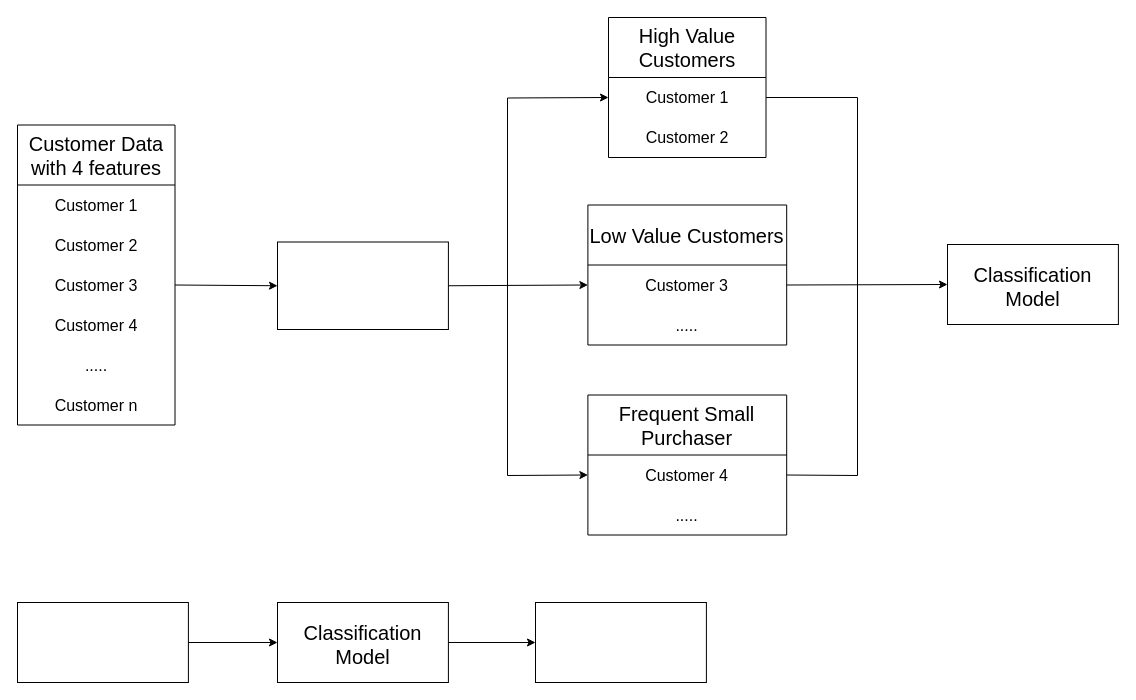
This 1136x700 diagram has some shape labels left out. The shapes that lost their labels are listed below. From the top down, each one's centre as x and y in pixels, then its label:
At pixel 362 285: "Clustering Model".
At pixel 102 642: "New Customer".
At pixel 620 642: "Predicted Class".
